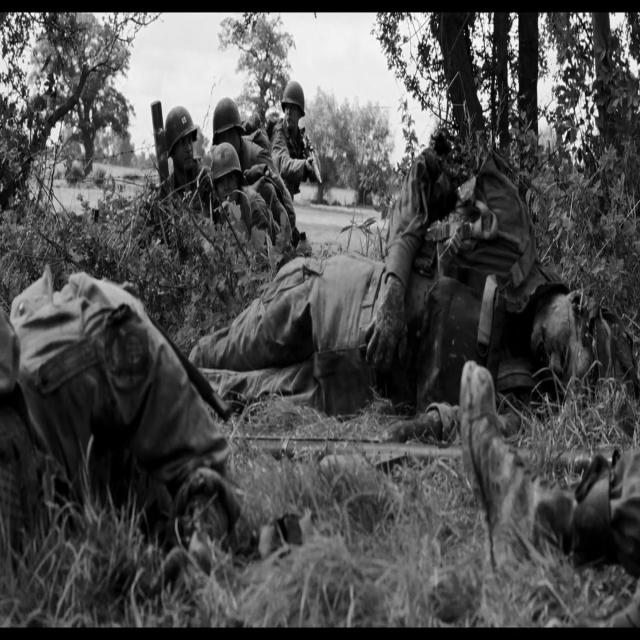Rifle: (229, 418, 626, 488)
Sniper: (301, 136, 328, 191)
